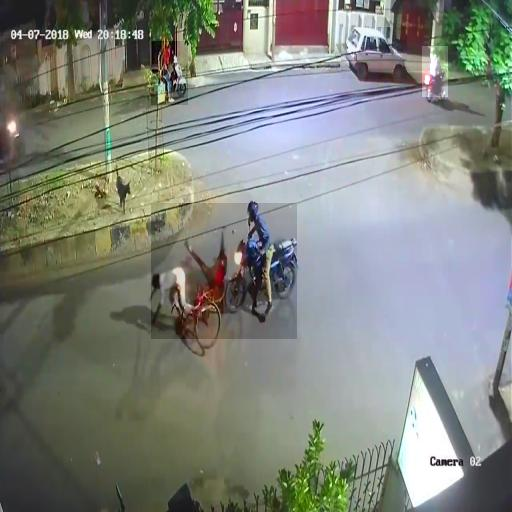小汽车: (341, 28, 407, 80), (151, 41, 188, 105)
自行车: (422, 46, 448, 97)
自行车撞自行车: (151, 204, 297, 340)
